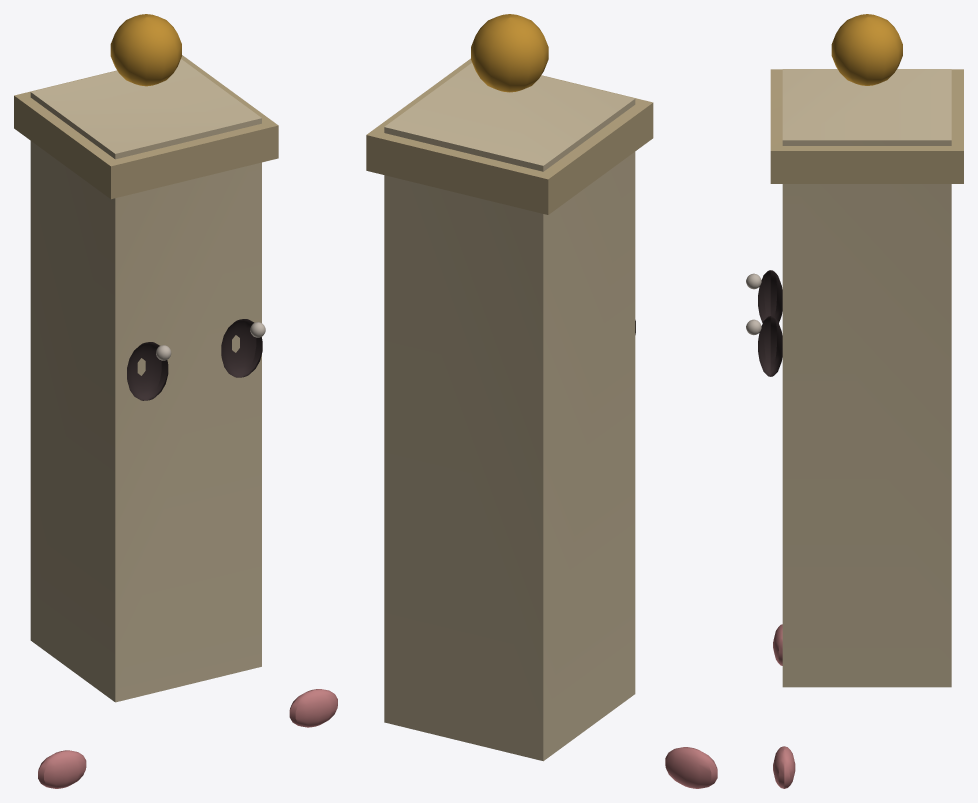
The picture shows the model from 3 angles, left to right: view 1: azimuth 30°, elevation 25°; view 2: azimuth 150°, elevation 25°; view 3: azimuth 270°, elevation 25°; orthographic projection. The views are drawn at different scales.
Parts seen in each view (by area): view 1: pet_p2e97f7c5; view 2: pet_p2e97f7c5; view 3: pet_p2e97f7c5.
Part boxes in pixels (box(x1,y1,x2,y2)): pet_p2e97f7c5: box(14, 14, 337, 788); pet_p2e97f7c5: box(366, 14, 717, 788); pet_p2e97f7c5: box(746, 14, 963, 788).
Size of the model in its own units: 0.2861 by 0.6464 by 0.1804.
